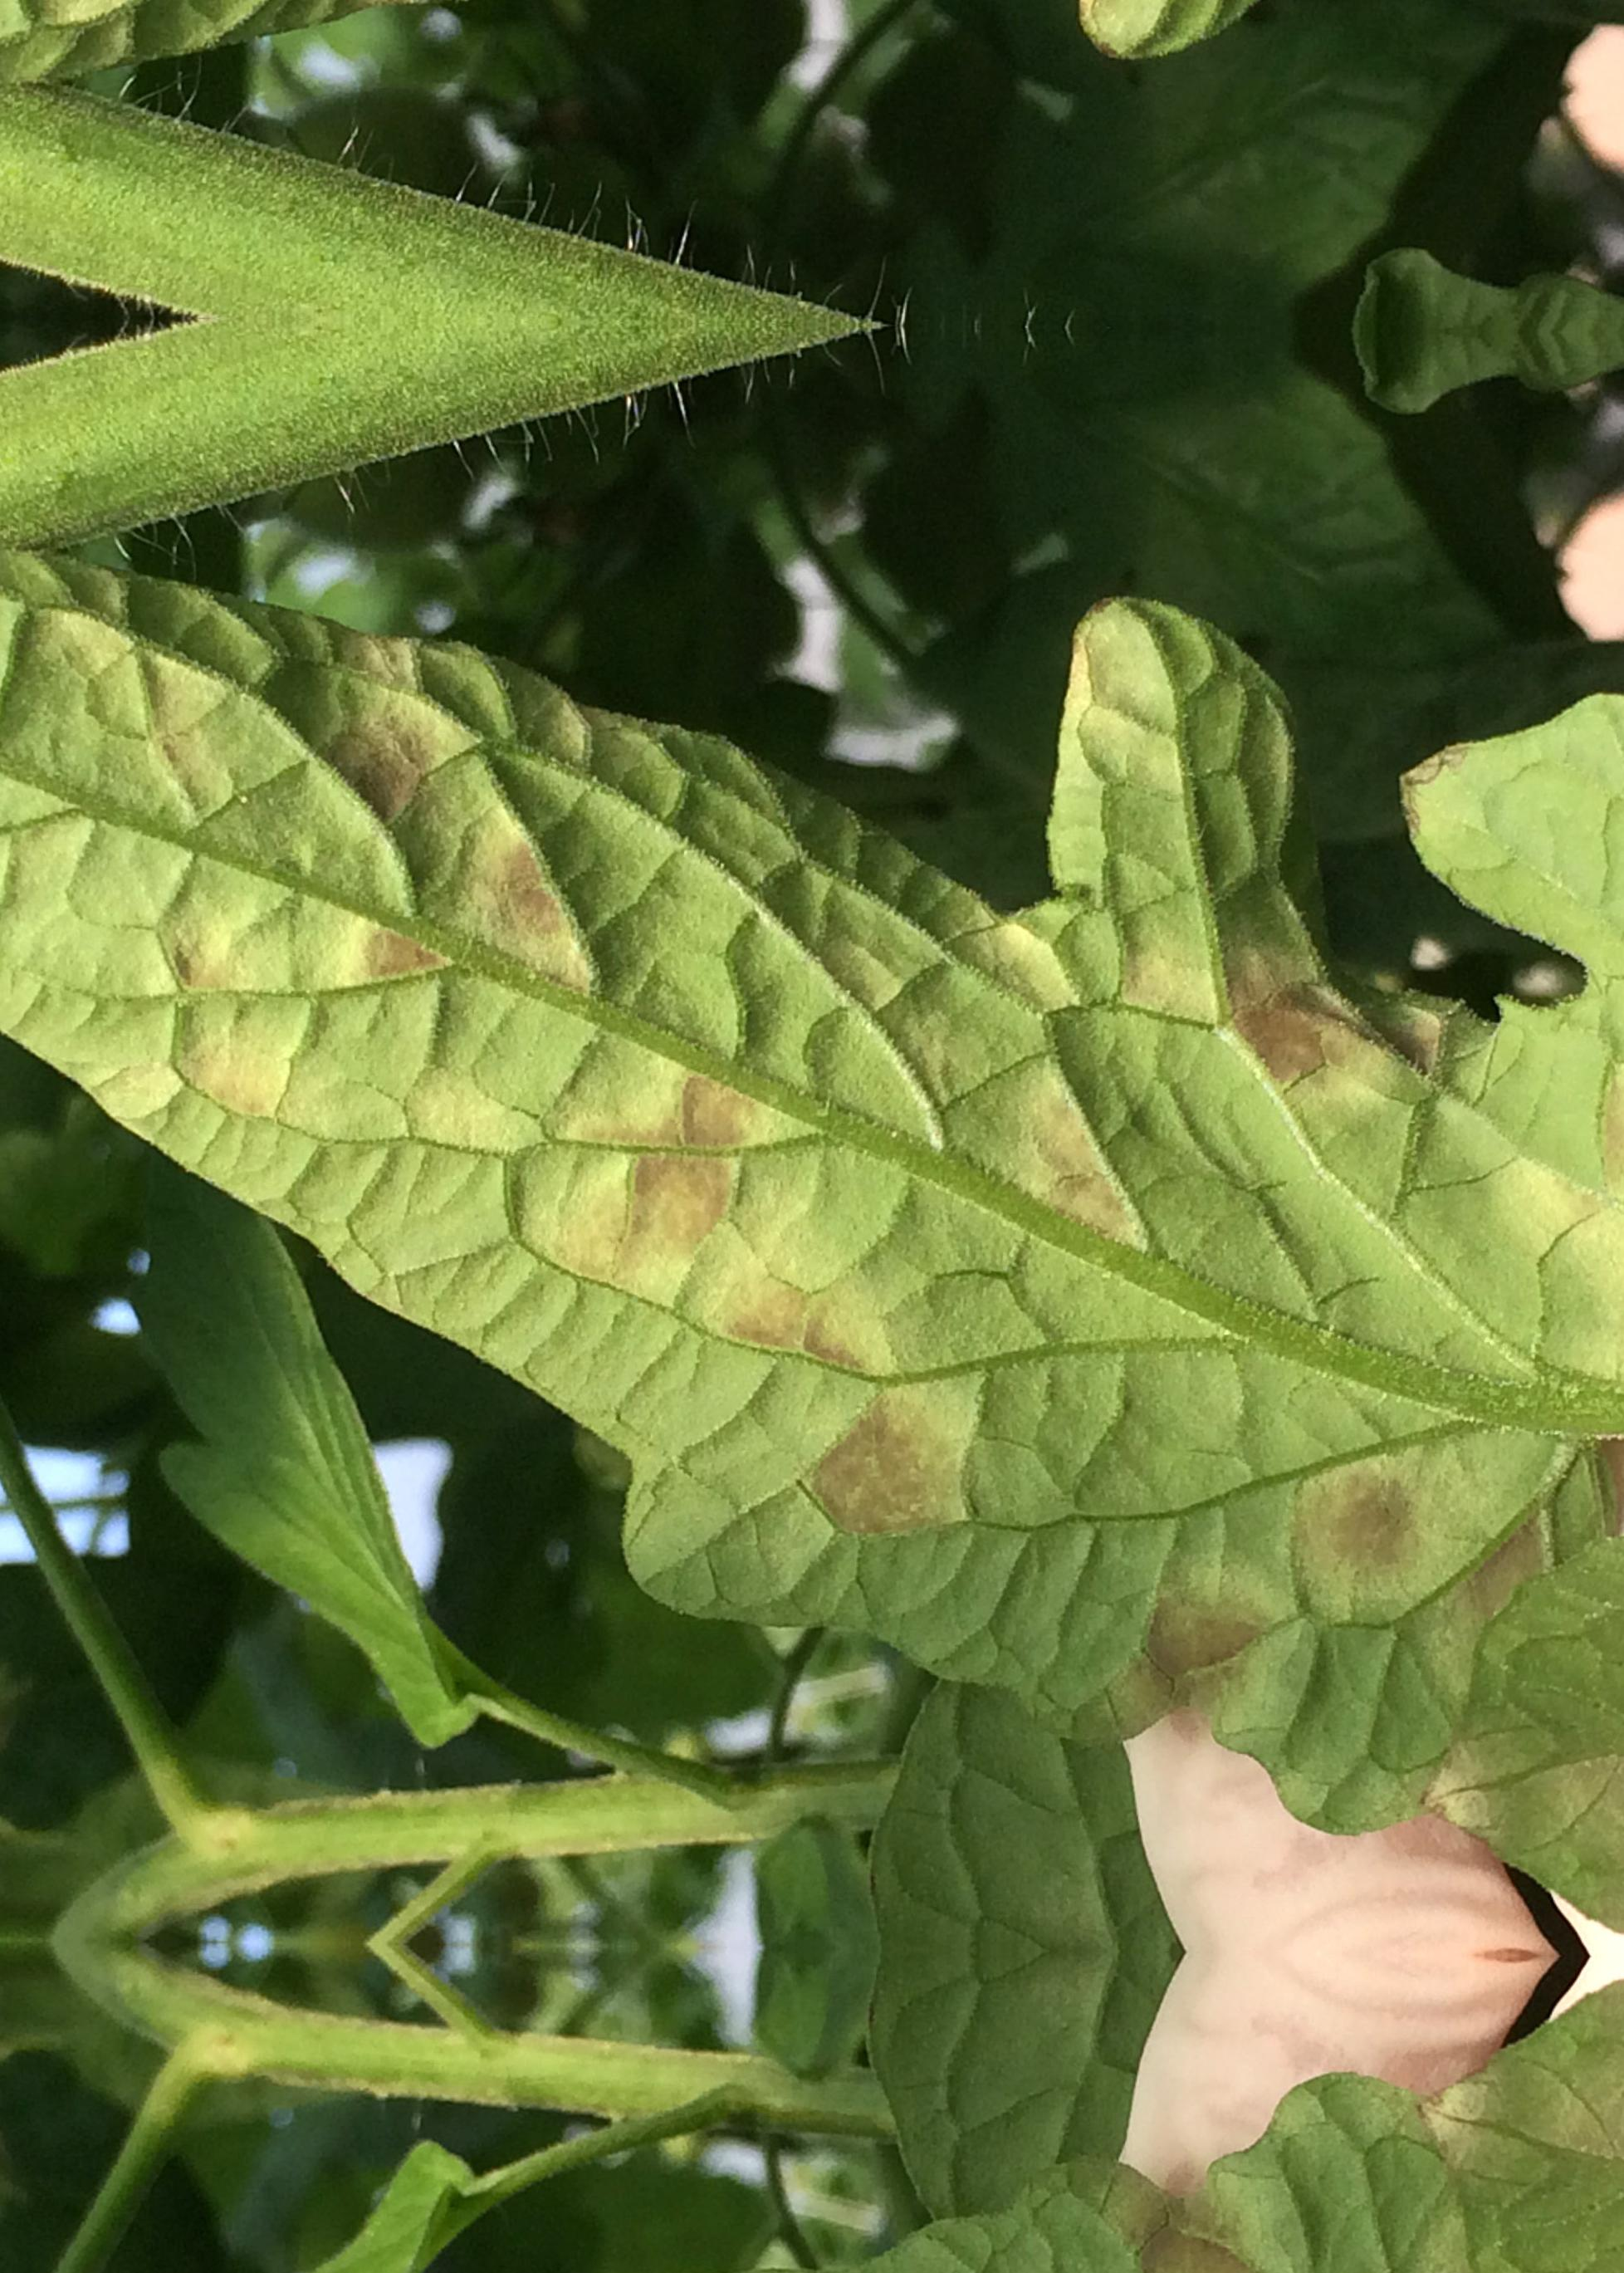Tomato mold leaf: (0, 517, 1624, 1881)
